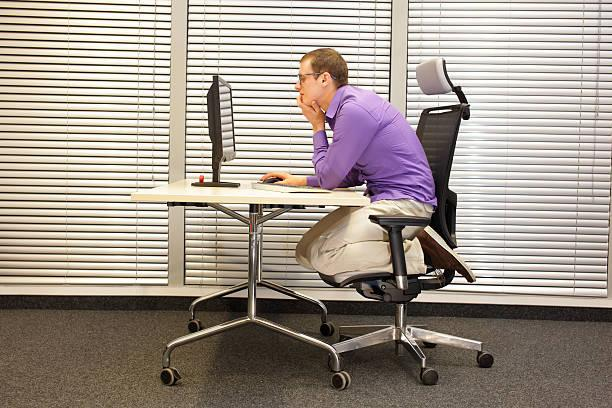Bad Sitting Posture: (234, 21, 484, 241)
